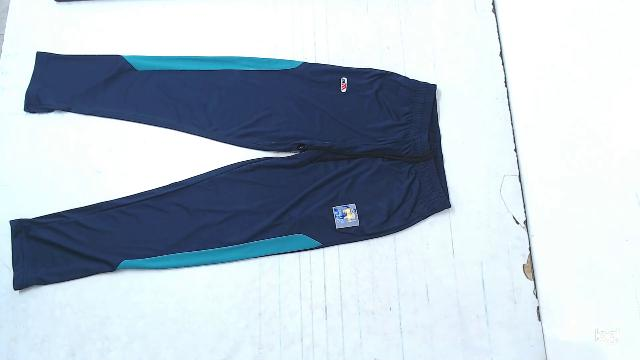new-garment: (10, 52, 450, 290)
